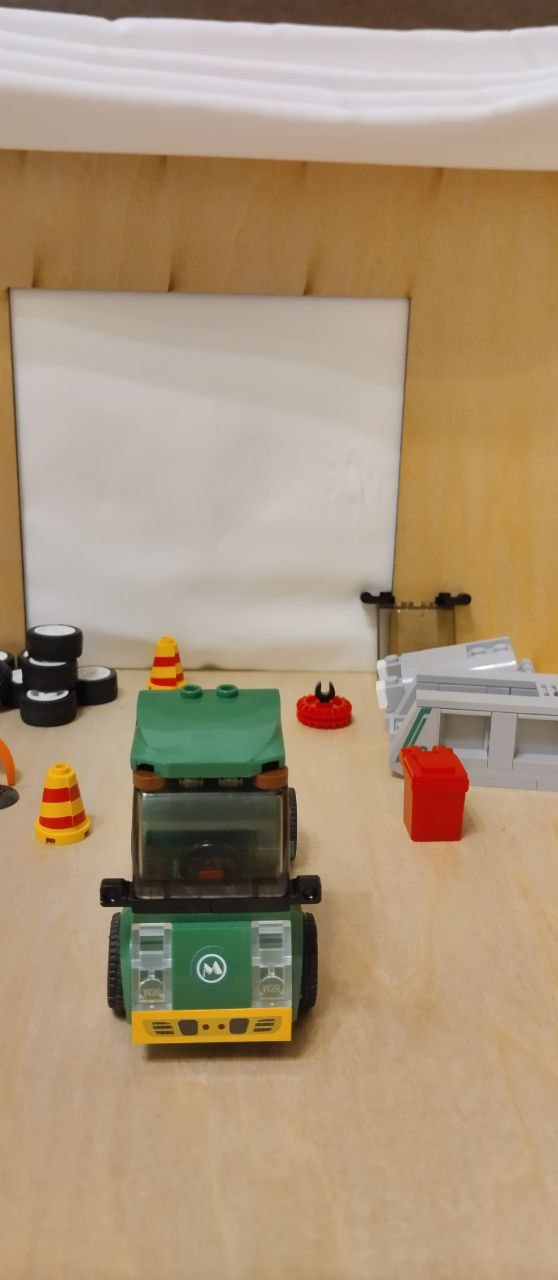Cone: (30, 753, 96, 852), (144, 633, 198, 691)
Object Red: (394, 742, 475, 854)
Truck: (90, 679, 323, 1066)
